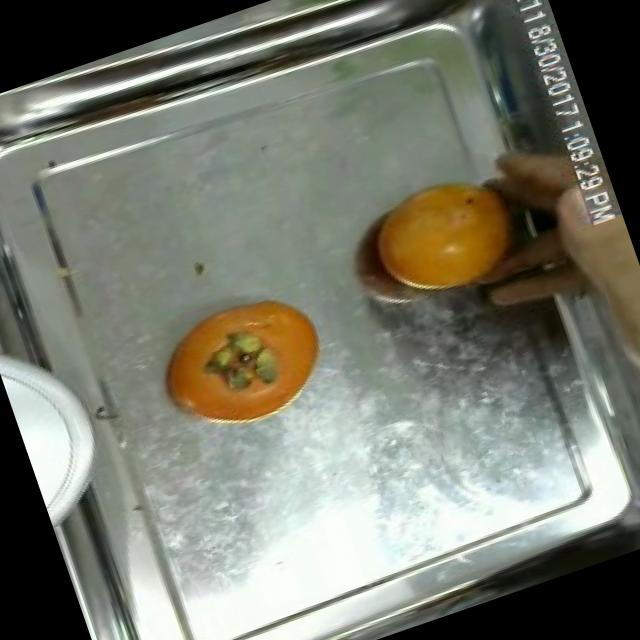Fruit: (133, 266, 348, 452), (348, 146, 546, 318)
